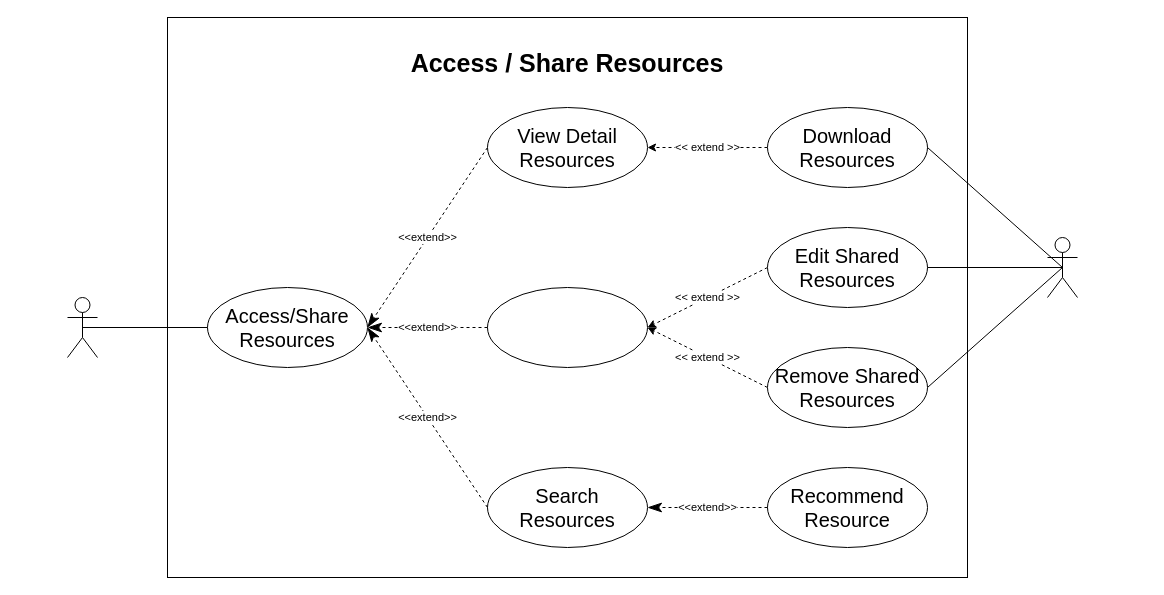
Some shapes in this 1164 by 595 pixel diagram are drawn without their labels. The centre of each missing label's shape, as x and y in pixels:
"HCMUT_LIBRARY" belongs at pixel 1062 267.
"Share Resources" belongs at pixel 567 327.
"Student / Tutor" belongs at pixel 82 327.
